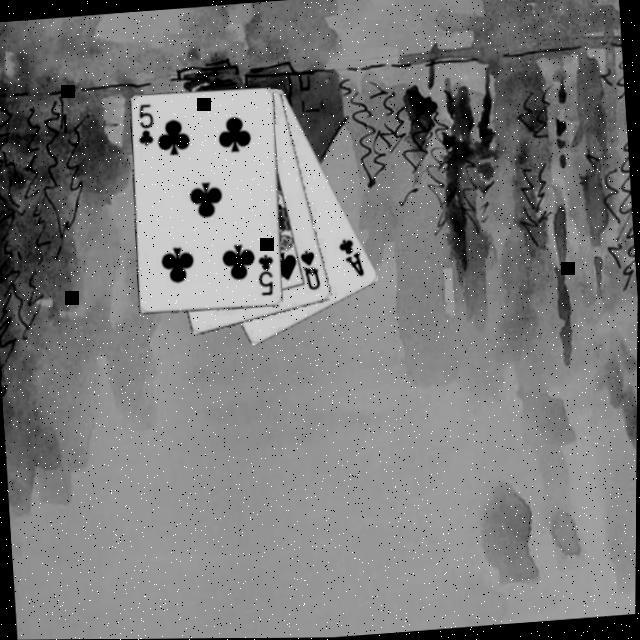5C: (135, 102, 160, 152), (257, 254, 280, 301)
AC: (337, 237, 369, 283)
QS: (300, 248, 326, 296)
